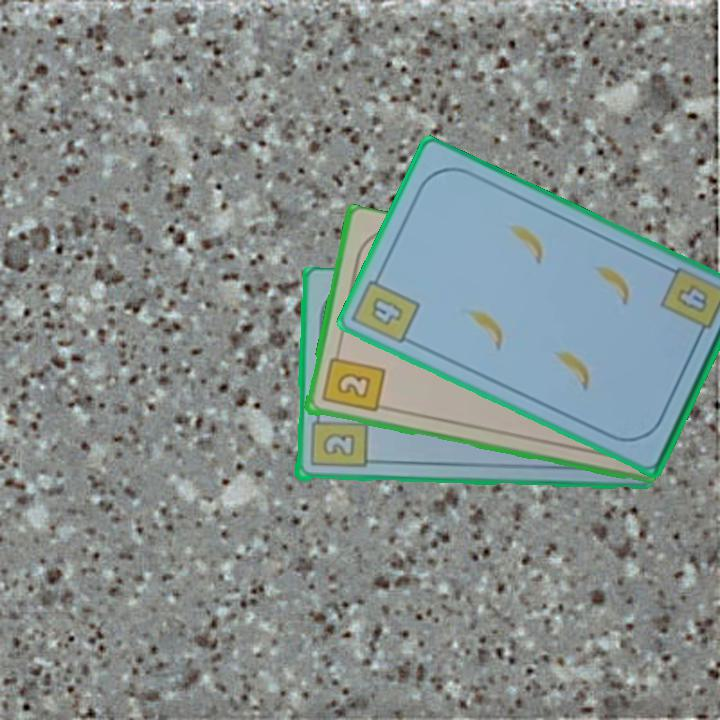2b: (318, 345, 387, 416), (307, 408, 369, 472)
4b: (349, 268, 423, 347), (672, 281, 711, 317)
